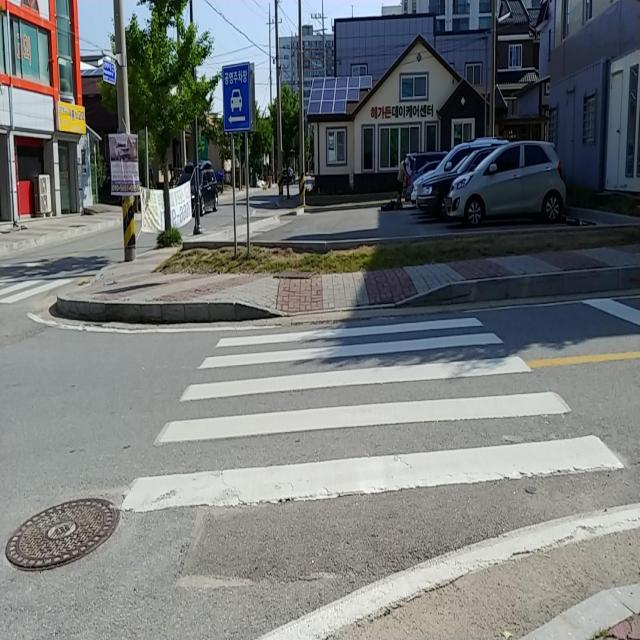횡단보도: (118, 315, 627, 515)
